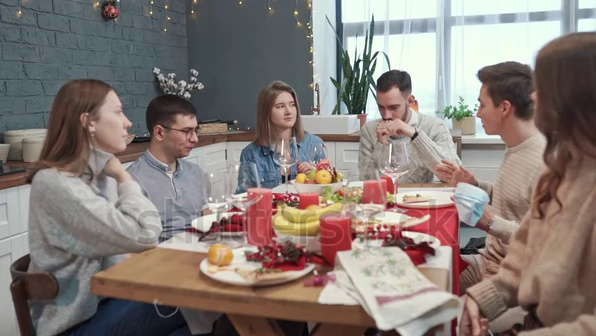No Mask: (59, 79, 138, 154), (472, 69, 526, 140), (150, 96, 204, 162), (371, 75, 419, 129), (260, 87, 305, 129)
